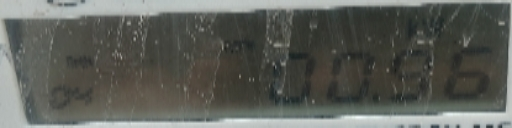0: (262, 47, 317, 111), (324, 47, 376, 106)
6: (438, 41, 495, 106)
9: (387, 44, 436, 109)
d: (368, 92, 382, 104)
